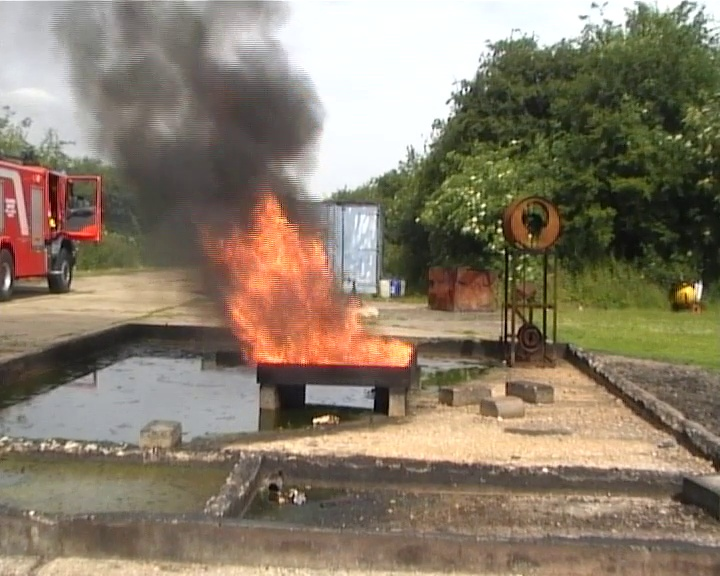fire: (218, 195, 408, 366)
